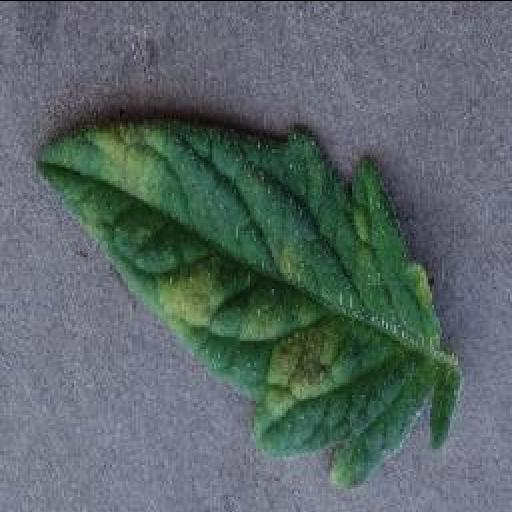disease_tomato: (31, 122, 461, 484)
